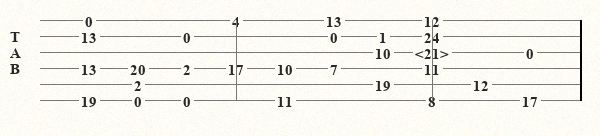0: (85, 13, 97, 27), (134, 93, 146, 107), (183, 29, 195, 43), (183, 93, 195, 107), (330, 29, 342, 43), (526, 45, 538, 59)
1: (379, 29, 391, 43)
10: (277, 61, 297, 75), (375, 45, 395, 59)
11: (277, 93, 297, 107), (424, 61, 444, 75)
12: (424, 13, 444, 27), (473, 77, 493, 91)
13: (81, 29, 101, 43), (81, 61, 101, 75), (326, 13, 346, 27)
17: (228, 61, 248, 75), (522, 93, 542, 107)
19: (81, 93, 101, 107), (375, 77, 395, 91)
2: (134, 77, 146, 91), (183, 61, 195, 75)
20: (130, 61, 150, 75)
24: (424, 29, 444, 43)
4: (232, 13, 244, 27)
7: (330, 61, 342, 75)
8: (428, 93, 440, 107)
harmonic: (415, 45, 453, 59)
